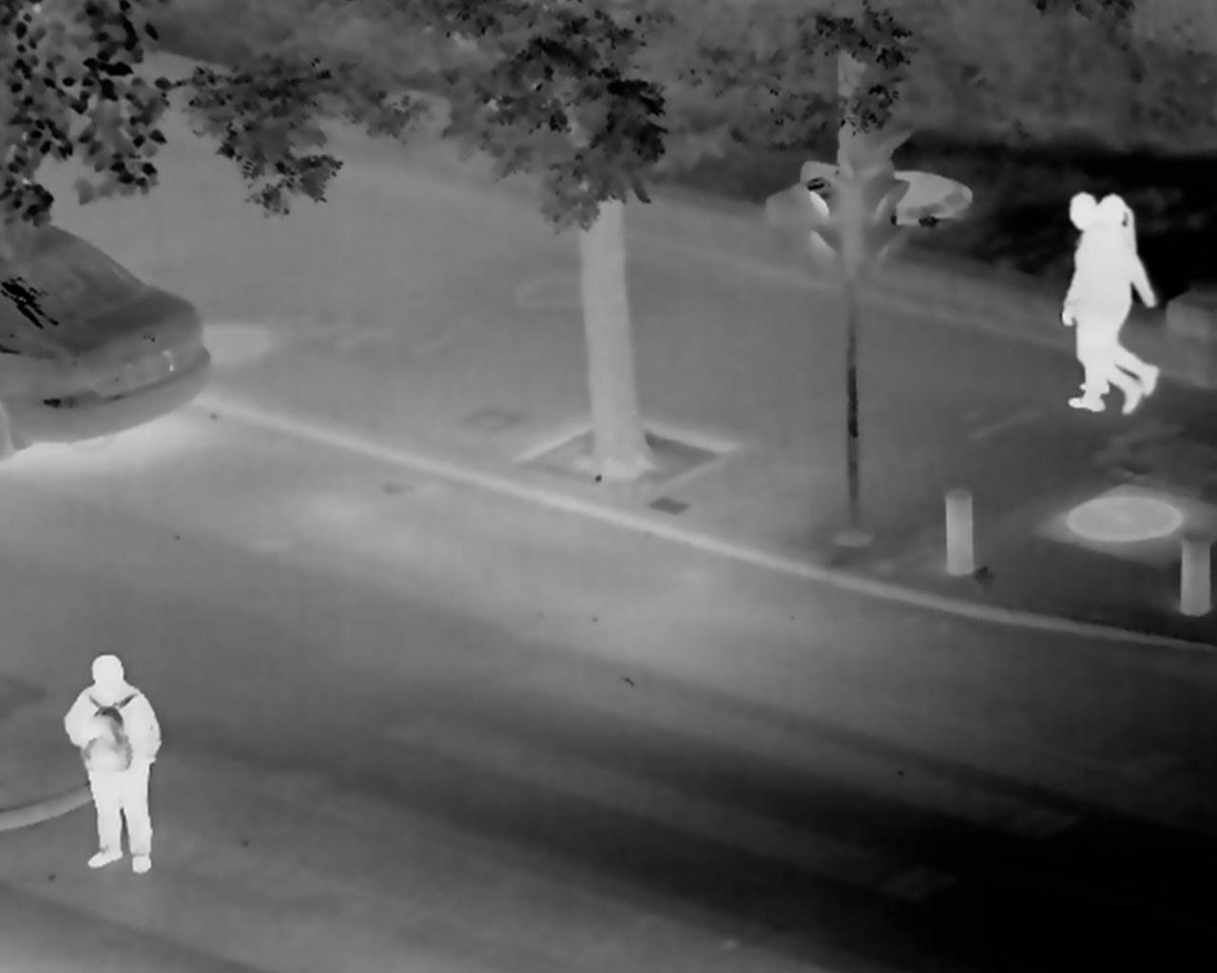person: (58, 648, 196, 880), (1053, 194, 1156, 417)
